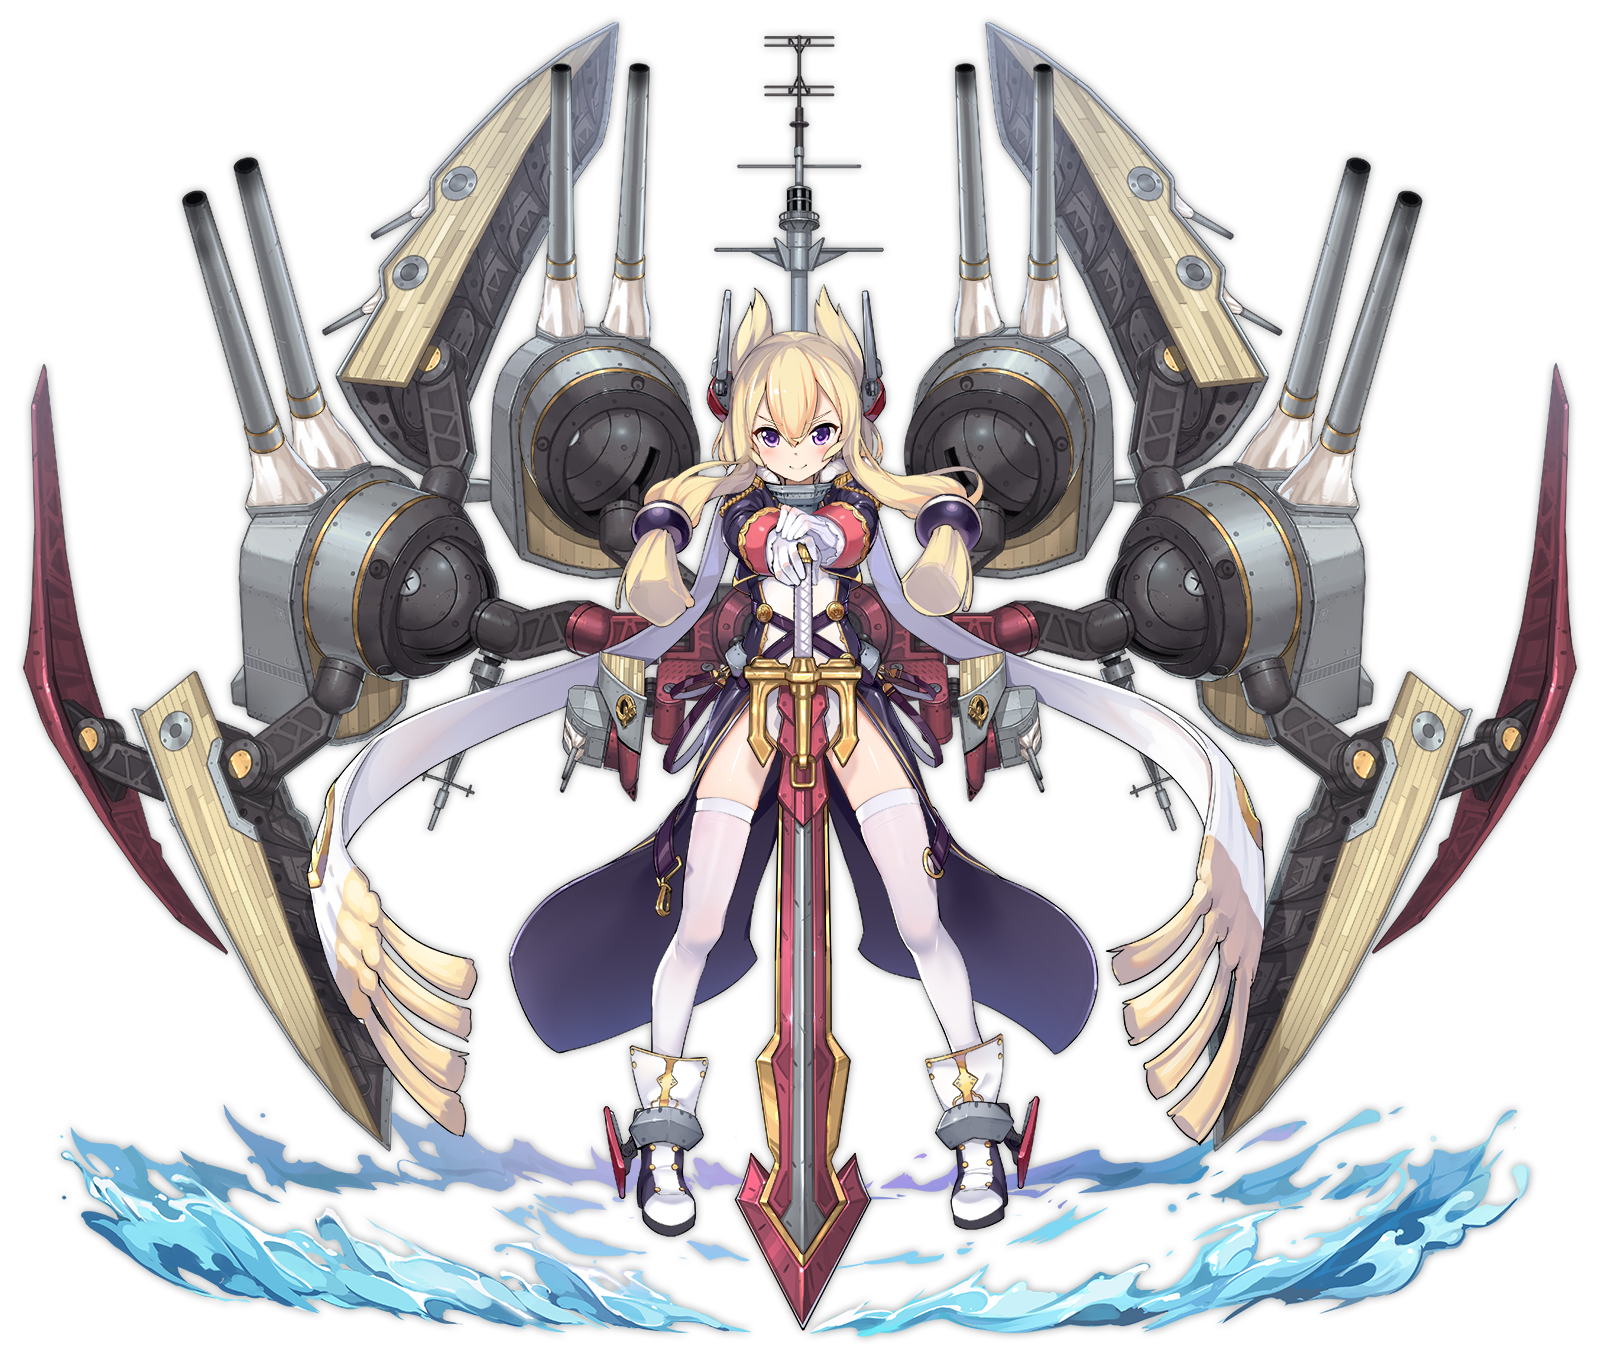person: (482, 327, 1102, 1315)
